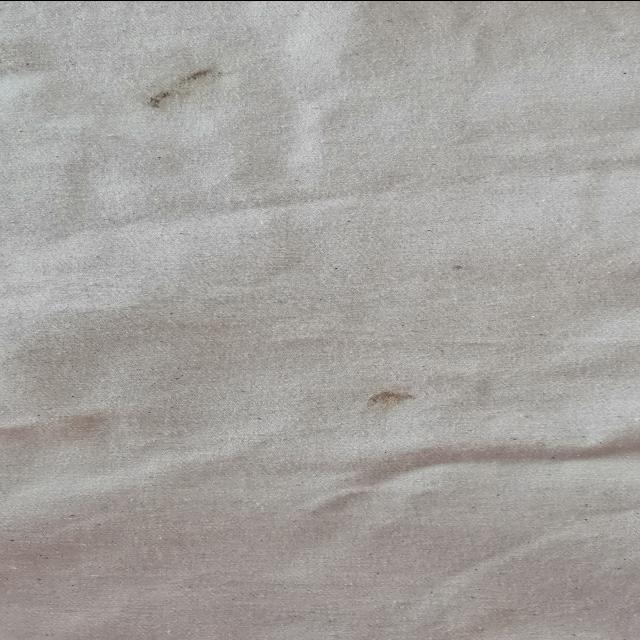taaaches: (120, 63, 233, 121), (352, 382, 426, 412)
